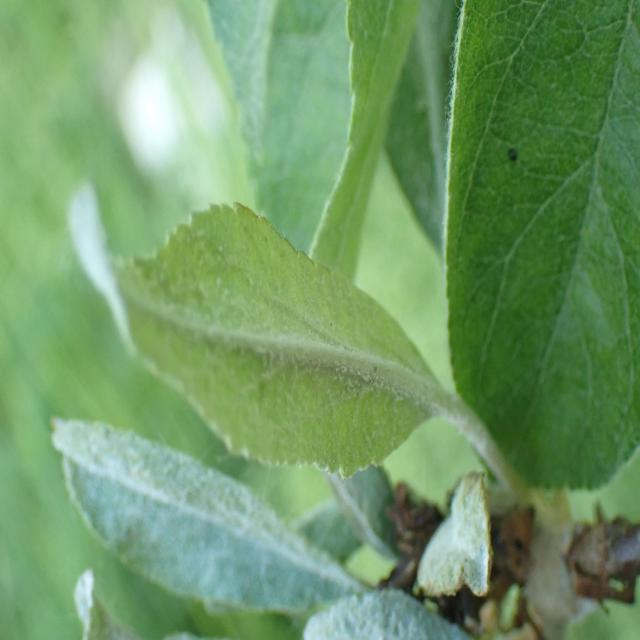Powdery_mildew: (50, 173, 443, 470), (29, 411, 370, 613), (415, 457, 519, 629), (275, 592, 470, 640)
